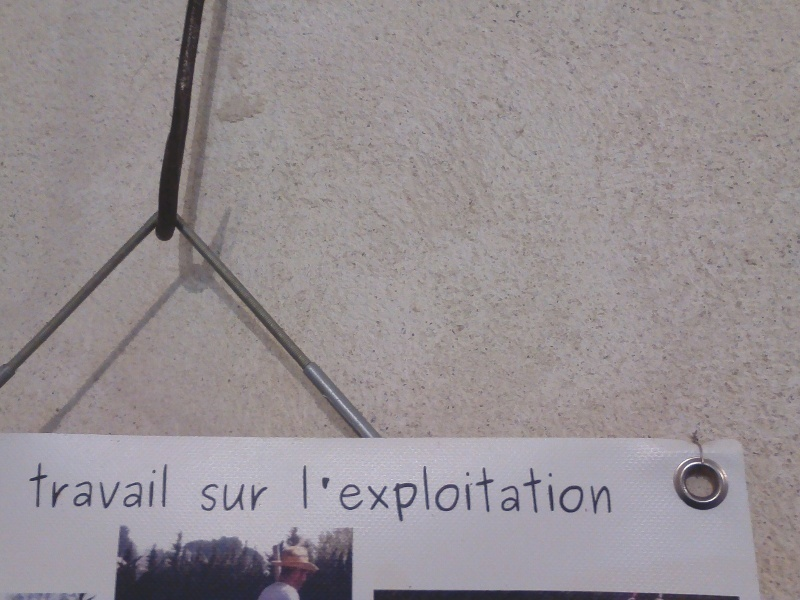text: (305, 462, 320, 529), (321, 462, 336, 529), (337, 462, 352, 529), (353, 462, 368, 529), (369, 462, 384, 529), (385, 462, 400, 529), (401, 462, 416, 529), (417, 462, 432, 529), (433, 462, 448, 529), (449, 462, 464, 529), (465, 462, 480, 529), (481, 462, 496, 529), (497, 462, 512, 529), (513, 462, 528, 529), (529, 462, 544, 529), (545, 462, 560, 529), (561, 462, 576, 529), (577, 462, 592, 529), (593, 462, 608, 529), (33, 461, 48, 512), (49, 461, 64, 512), (65, 461, 80, 512), (81, 461, 96, 512), (97, 461, 112, 512), (113, 461, 128, 512), (129, 461, 144, 512), (145, 461, 160, 512), (161, 461, 172, 512), (209, 481, 224, 512), (225, 481, 240, 512), (241, 481, 256, 512), (609, 462, 615, 529), (257, 481, 269, 512), (202, 481, 208, 512), (29, 461, 32, 512), (302, 462, 304, 529)
